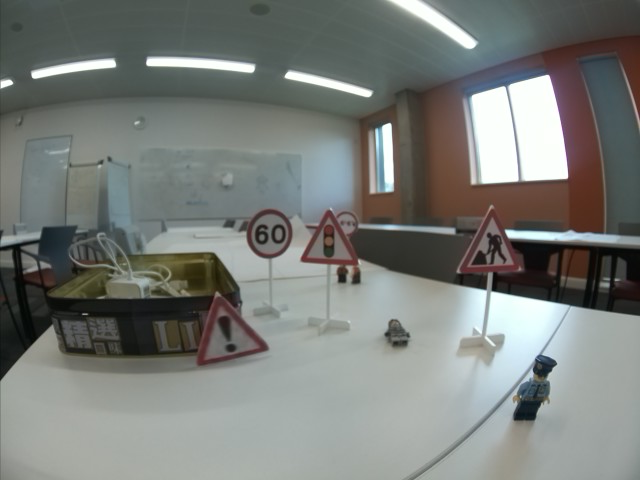60mph: (245, 209, 292, 257)
6ft6: (336, 210, 358, 235)
Lego Man: (510, 354, 557, 422), (382, 316, 411, 347), (337, 264, 348, 284), (350, 266, 362, 283)
Roadworks: (456, 208, 522, 273)
Traffic lights: (301, 209, 356, 265)
Warning: (194, 297, 269, 368)
